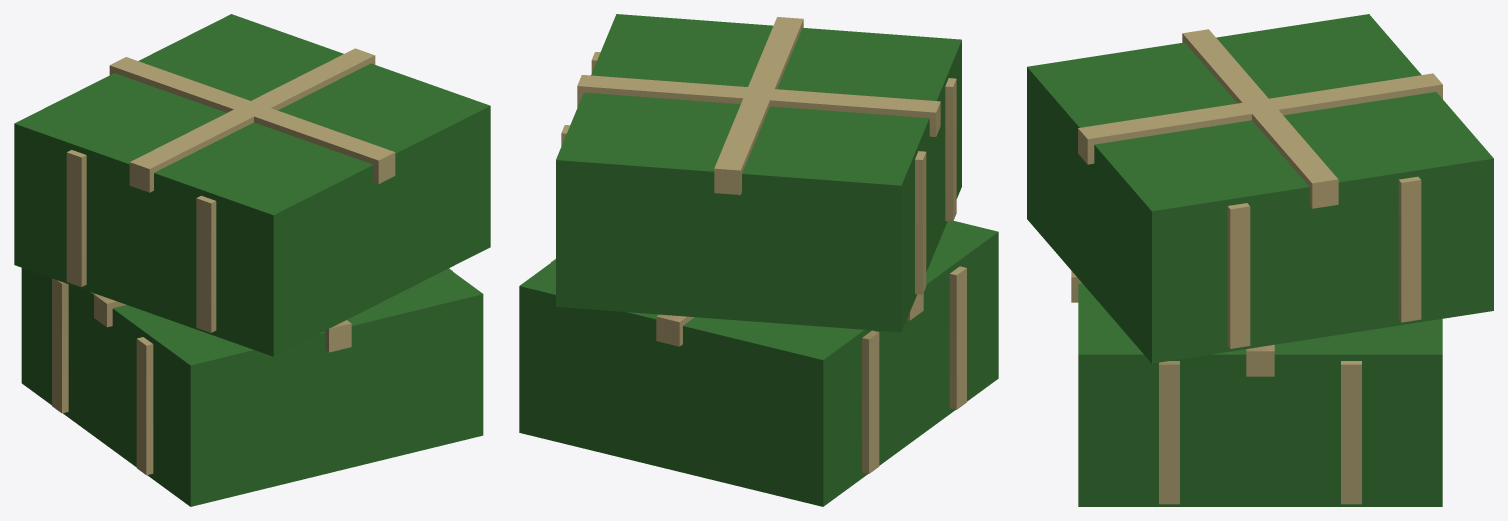
Rendered from pr-banhchung.glb.
3 views of the same model, side by side, from view 1: azimuth 30°, elevation 25°; view 2: azimuth 150°, elevation 25°; view 3: azimuth 270°, elevation 25° (orthographic). The views are drawn at different scales.
Size of the model in its own units: 0.3334 by 0.255 by 0.3334.
